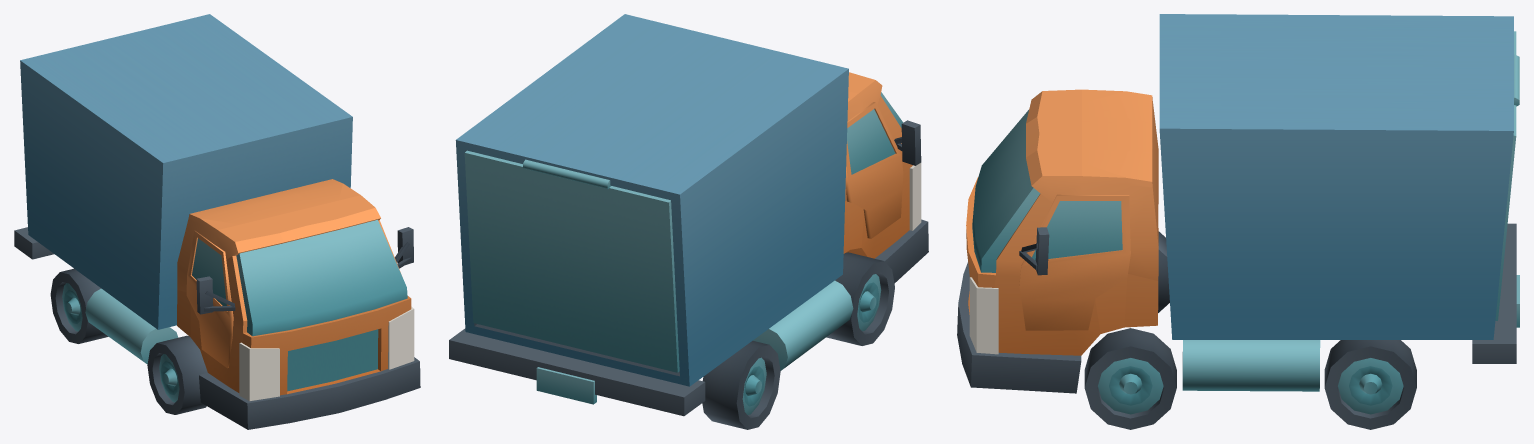
Rendered from Prop_Truck.fbx.
3 renders of one model, left to right at view 1: azimuth 30°, elevation 25°; view 2: azimuth 150°, elevation 25°; view 3: azimuth 270°, elevation 25°, orthographic. The views are drawn at different scales.
Parts seen in each view (by area): view 1: Truck_Back, Truck_Cab, Truck_Tires, Truck_Barrel, Truck_Bumper; view 2: Truck_Back, Truck_BackDoor, Truck_Cab, Truck_Tires, Truck_Bumper, Truck_Barrel; view 3: Truck_Back, Truck_Cab, Truck_Tires, Truck_Barrel, Truck_Bumper, Truck_BackDoor.
Boxes of the visible parts, x1=… form: Truck_Back: x1=20, y1=14, x2=352, y2=329; Truck_Cab: x1=177, y1=179, x2=420, y2=429; Truck_Tires: x1=50, y1=268, x2=207, y2=414; Truck_Barrel: x1=85, y1=288, x2=178, y2=364; Truck_Bumper: x1=14, y1=227, x2=54, y2=259; Truck_Back: x1=455, y1=14, x2=848, y2=386; Truck_BackDoor: x1=464, y1=150, x2=679, y2=372; Truck_Cab: x1=843, y1=72, x2=928, y2=283; Truck_Tires: x1=702, y1=252, x2=894, y2=429; Truck_Bumper: x1=449, y1=328, x2=705, y2=416; Truck_Barrel: x1=753, y1=280, x2=853, y2=370; Truck_Back: x1=1159, y1=14, x2=1519, y2=339; Truck_Cab: x1=957, y1=89, x2=1158, y2=393; Truck_Tires: x1=1084, y1=231, x2=1416, y2=429; Truck_Barrel: x1=1182, y1=340, x2=1320, y2=391; Truck_Bumper: x1=1472, y1=223, x2=1519, y2=363; Truck_BackDoor: x1=1495, y1=31, x2=1516, y2=320.
Size of the model in its own units: 1407 by 1488 by 2565.
